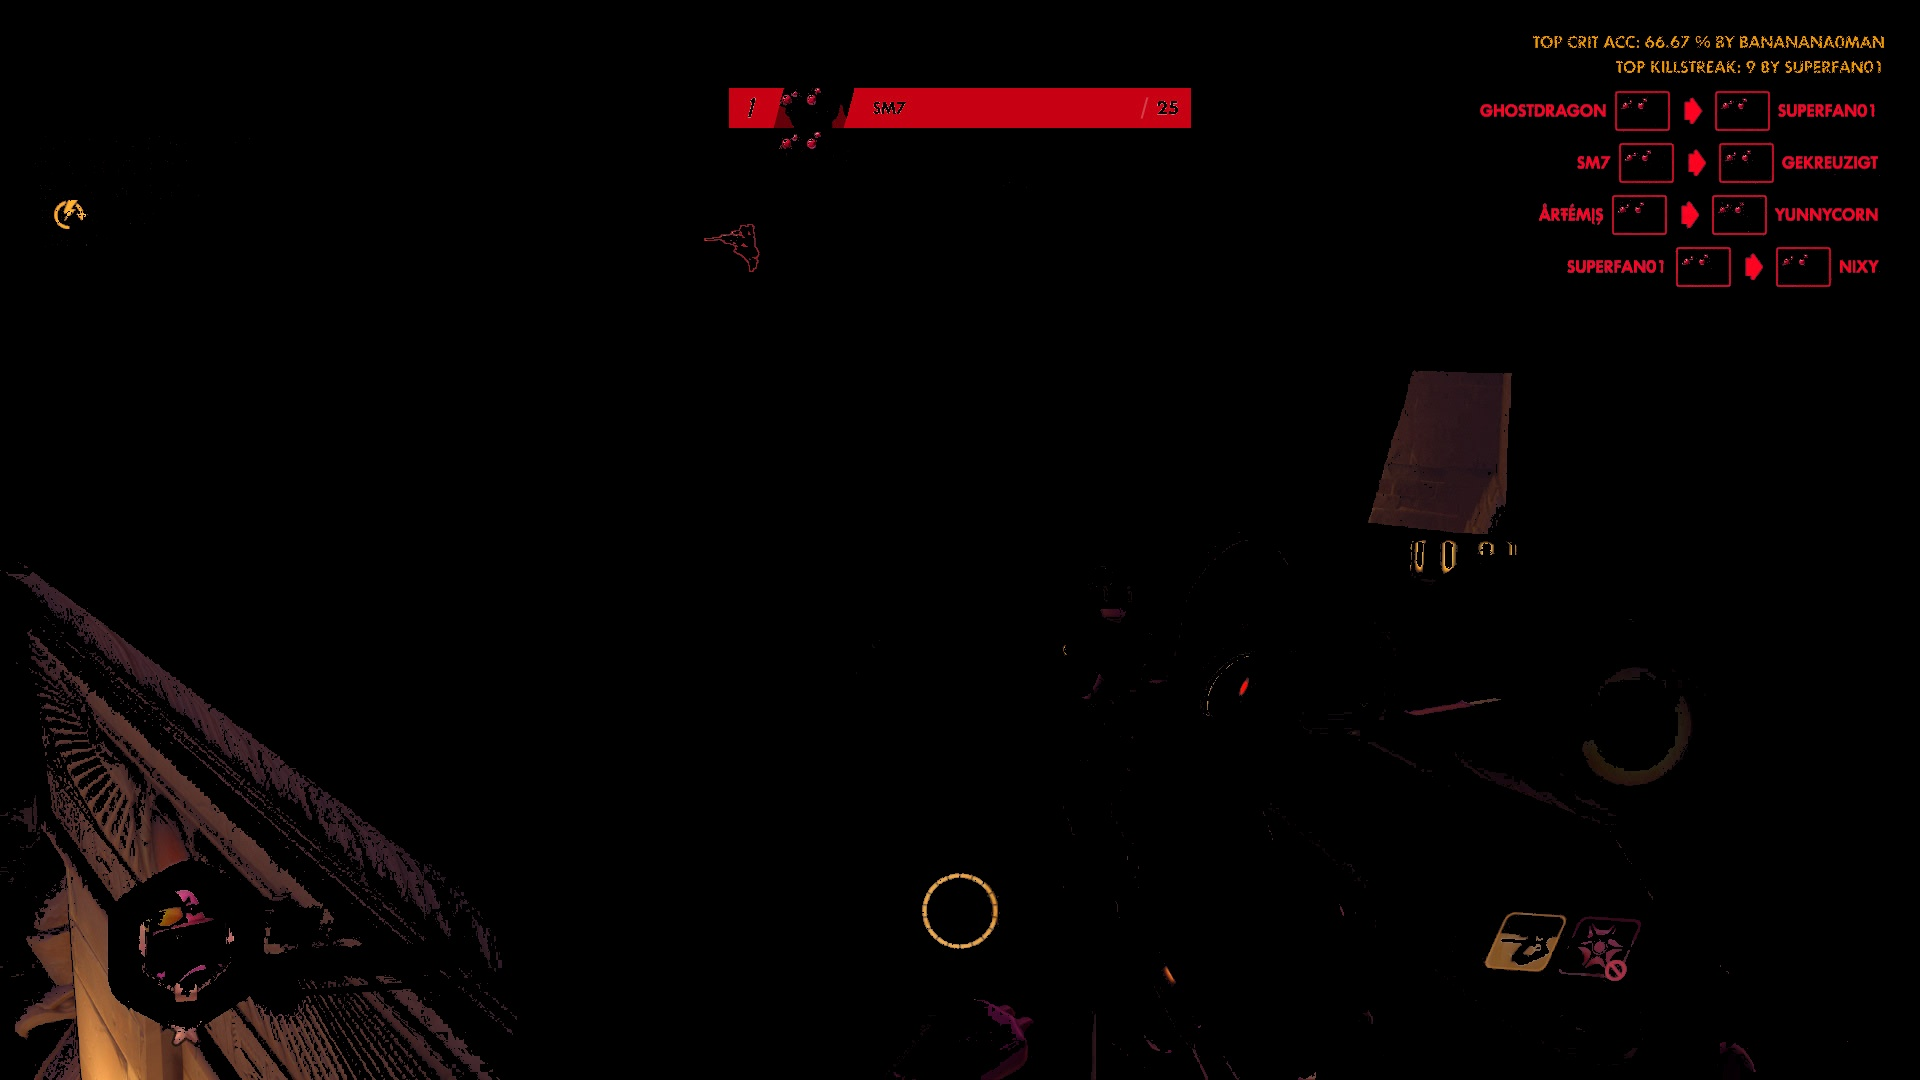widowmaker: (723, 222, 765, 273)
